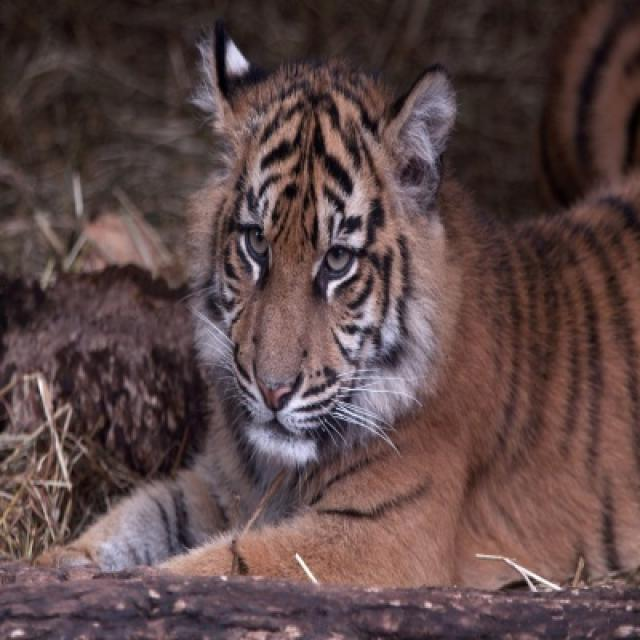Tiger: (73, 19, 638, 585)
